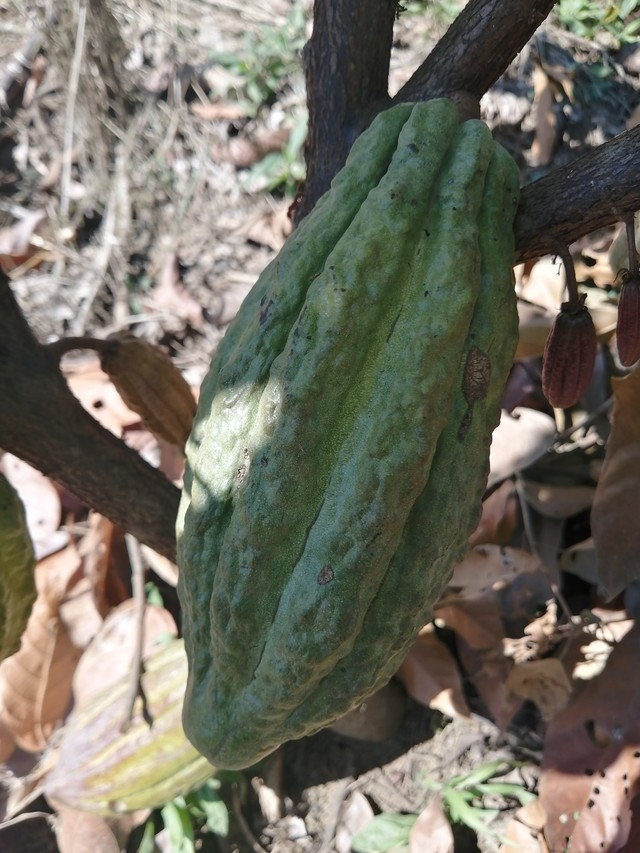Health: (141, 89, 545, 782)
